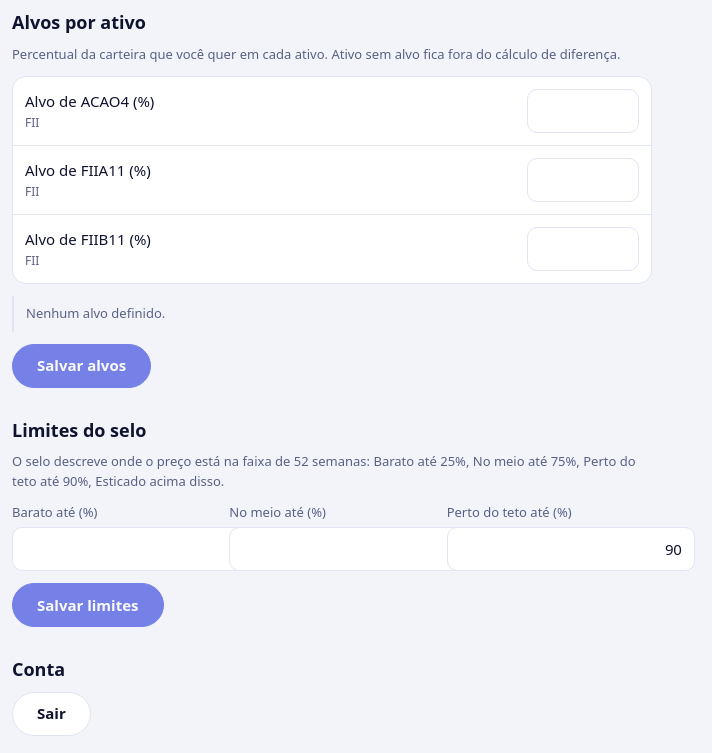
Test case: Configurações: alvos › não acumula erro de ponto flutuante na soma (0,1 + 0,2 + 99,7)
Type "0,1" into the field labelled "Alvo de FIIA11 (%)" at (583, 180), box 527,158 -> 639,202
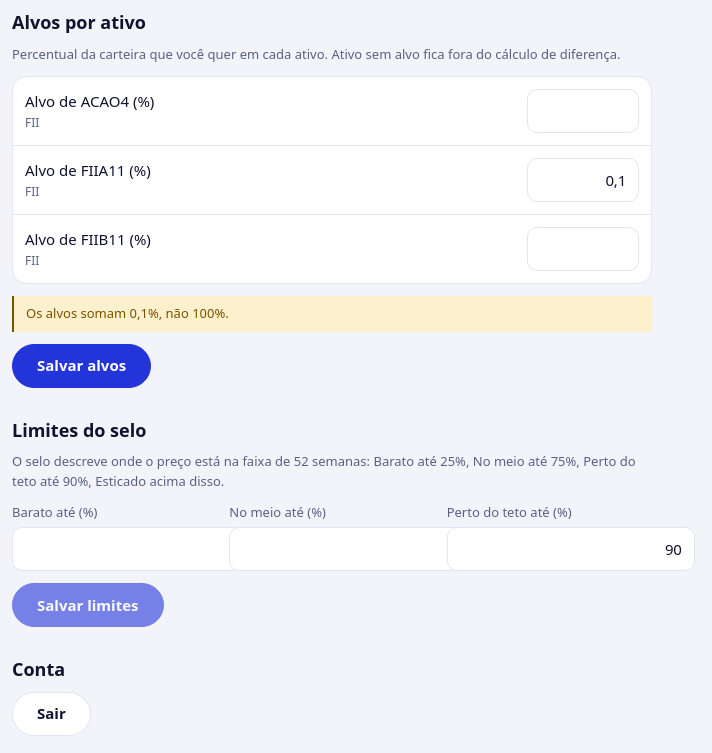
Type "0,2" into the field labelled "Alvo de FIIB11 (%)" at (583, 249), box 527,227 -> 639,271
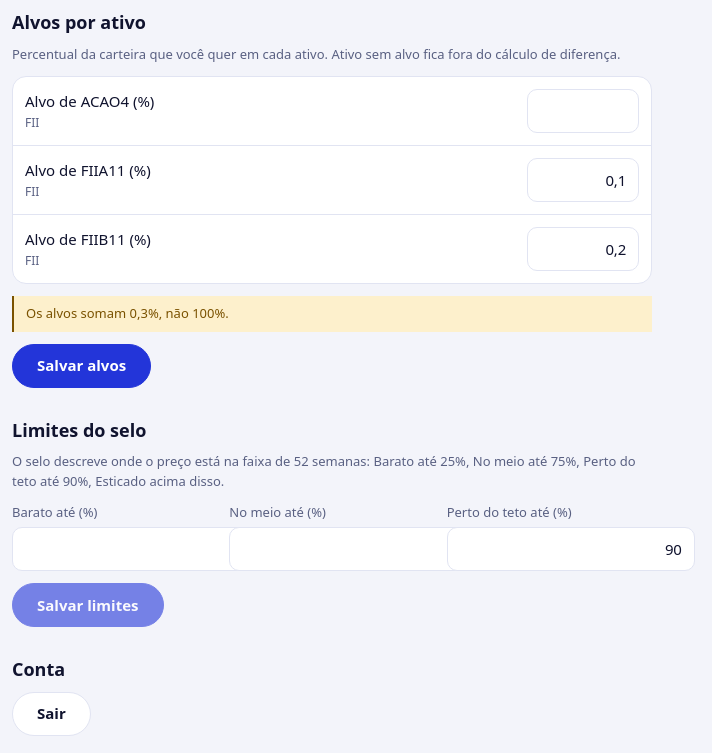
Type "99,7" into the field labelled "Alvo de ACAO4 (%)" at (583, 111), box 527,89 -> 639,133
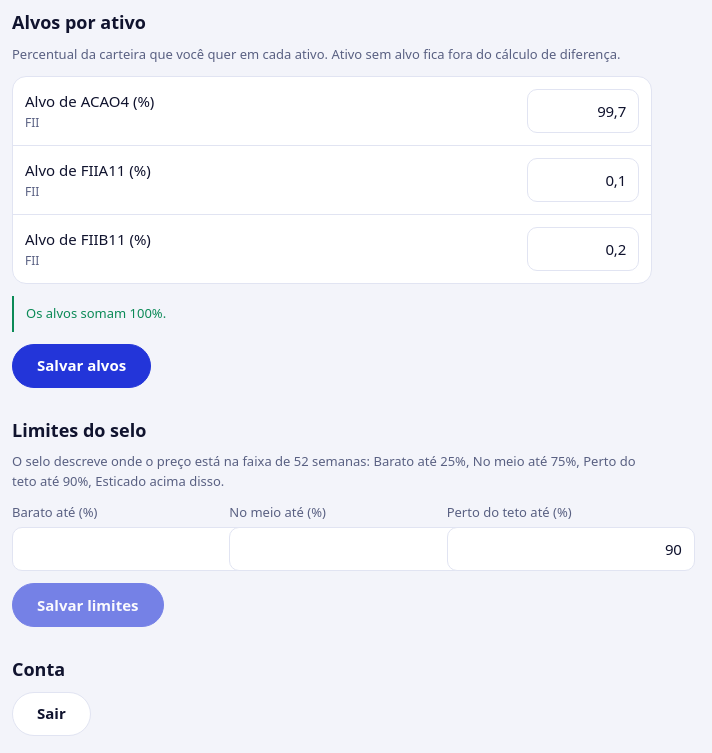
expect the text "Os alvos somam 100%." is shown: met, box 12,296 -> 652,332
